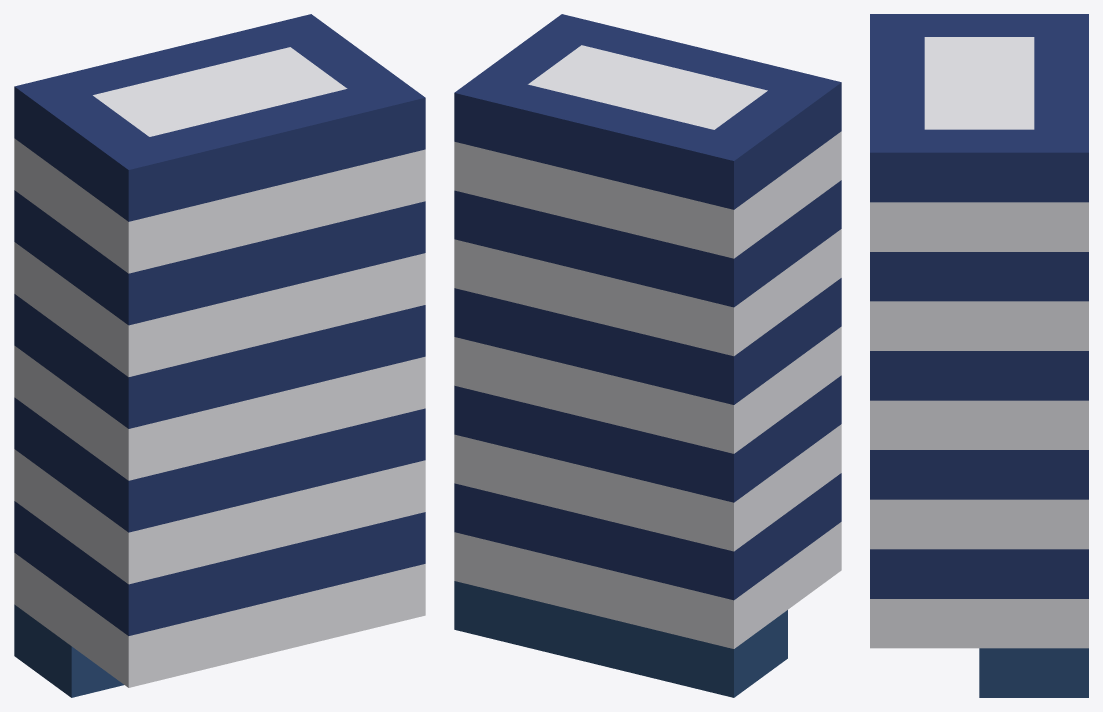
The model's file is torso.obj.
3 views of the same model, side by side, from view 1: azimuth 30°, elevation 25°; view 2: azimuth 150°, elevation 25°; view 3: azimuth 270°, elevation 25° (orthographic). The views are drawn at different scales.
Size of the model in its own units: 0.6 by 1.1 by 0.4.
1 material, 1 textured.
